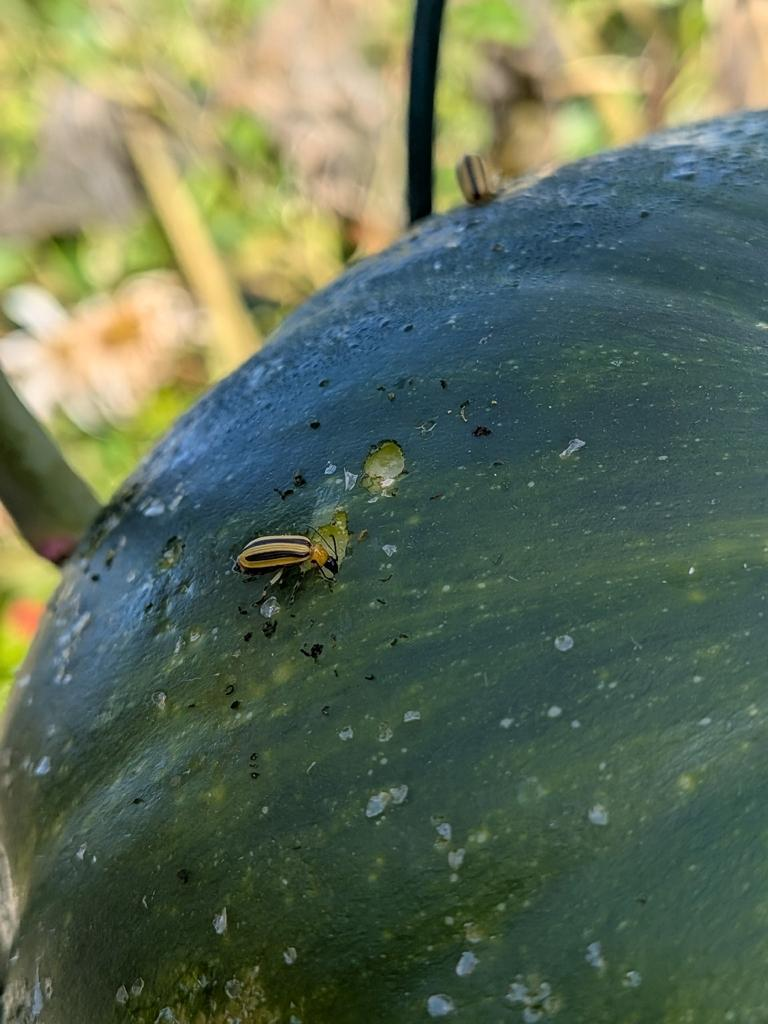potato_beetle: (214, 496, 374, 621)
